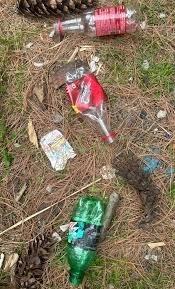cardboard: (33, 125, 78, 176)
plastic: (57, 60, 124, 149), (32, 4, 156, 41), (61, 192, 107, 285)
